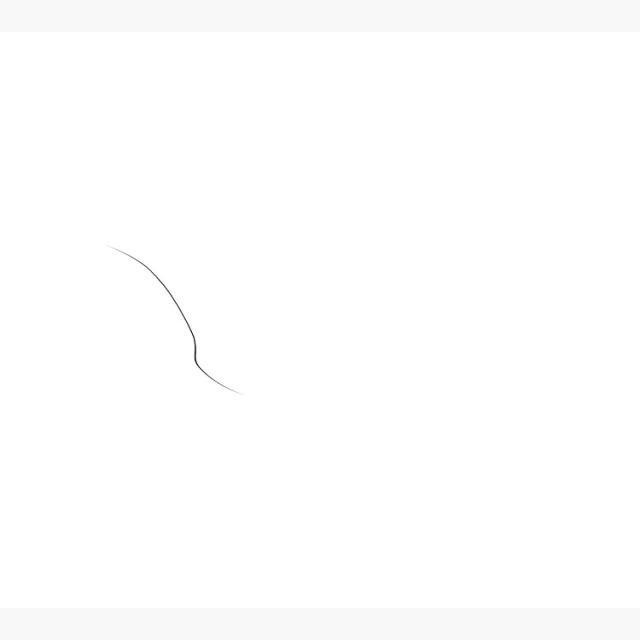hair: (105, 240, 240, 404)
